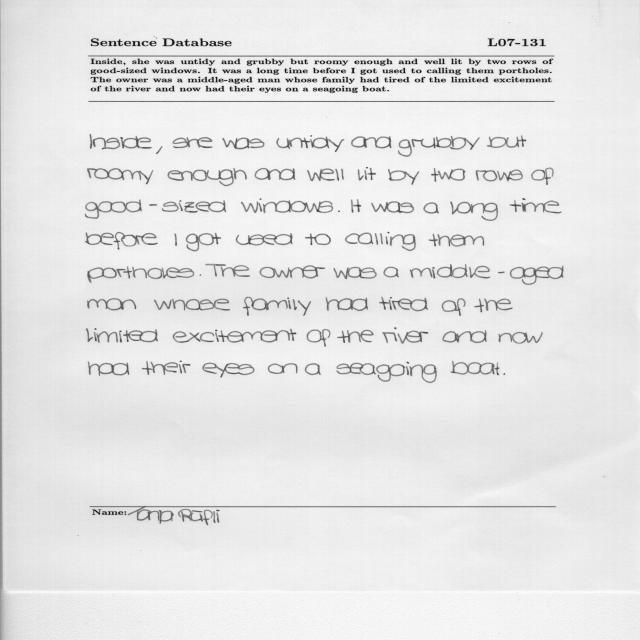word: (410, 264, 564, 285), (85, 199, 226, 219), (336, 362, 437, 383), (88, 266, 194, 283), (398, 136, 480, 157), (173, 329, 296, 343), (167, 168, 247, 186), (241, 199, 333, 214), (345, 232, 416, 251), (85, 232, 158, 250), (243, 297, 311, 316), (277, 135, 345, 152), (86, 328, 158, 343), (88, 168, 154, 184), (450, 201, 498, 221), (90, 135, 152, 150), (259, 265, 325, 279), (154, 299, 230, 311), (510, 199, 562, 214), (203, 363, 255, 378), (236, 233, 293, 246), (429, 234, 485, 247), (383, 328, 429, 343), (379, 297, 428, 311), (142, 361, 191, 375), (451, 361, 500, 375), (88, 298, 137, 311), (186, 233, 221, 251), (89, 361, 130, 376), (325, 297, 368, 311), (205, 264, 250, 277), (442, 330, 487, 343), (476, 170, 523, 182), (474, 299, 513, 313), (499, 332, 543, 344), (371, 202, 414, 214), (334, 267, 377, 279), (487, 135, 526, 148), (388, 169, 419, 185), (255, 168, 296, 180), (307, 169, 344, 182), (337, 330, 374, 343), (351, 137, 391, 149), (431, 168, 465, 182), (223, 138, 265, 149), (173, 137, 213, 148), (442, 298, 466, 316), (307, 329, 331, 347), (531, 167, 554, 185), (268, 363, 297, 374), (305, 234, 331, 245), (358, 167, 376, 181), (423, 202, 439, 214), (305, 363, 321, 375), (383, 267, 399, 277), (351, 199, 361, 213), (156, 146, 162, 154), (174, 233, 177, 246), (504, 373, 506, 375), (338, 211, 340, 212), (200, 274, 201, 276)
